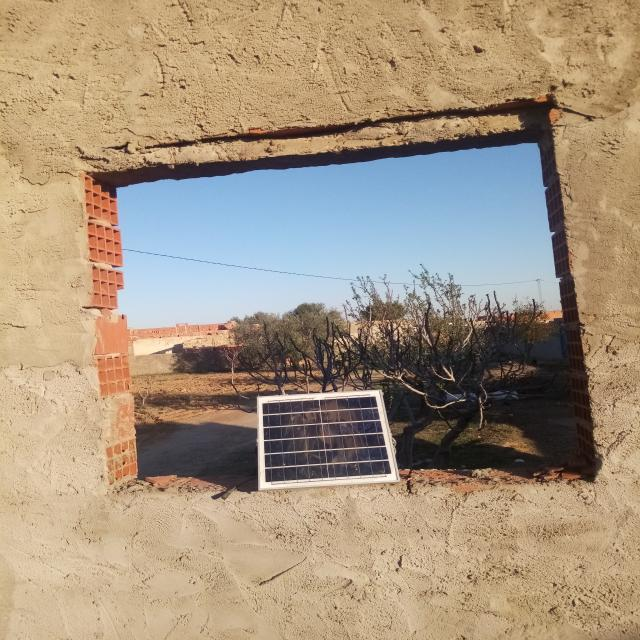no faulty: (257, 390, 399, 489)
